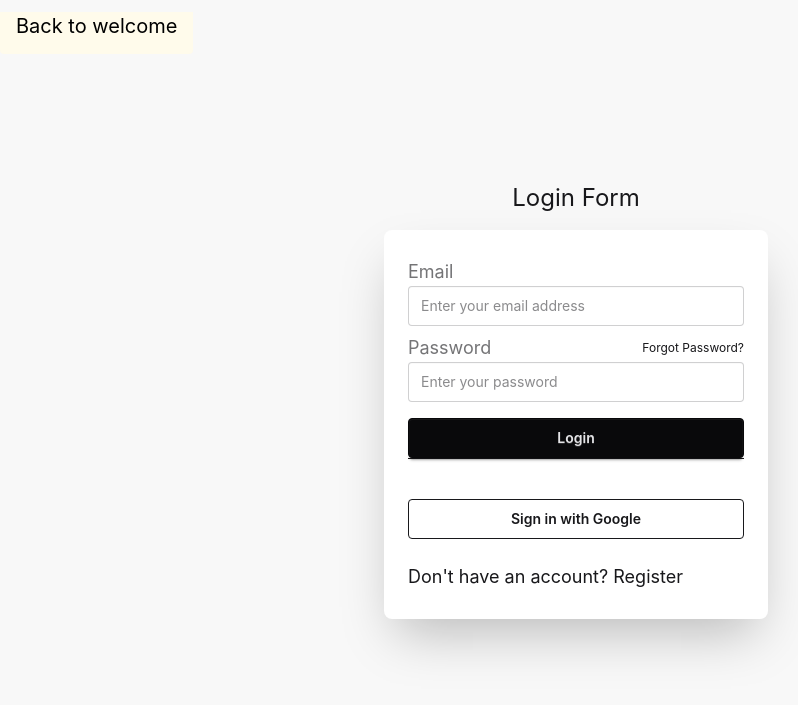
LoginPage › displays a Google sign-in error without navigating
Click the button "Sign in with Google": [576, 518] box [408,498,744,538]
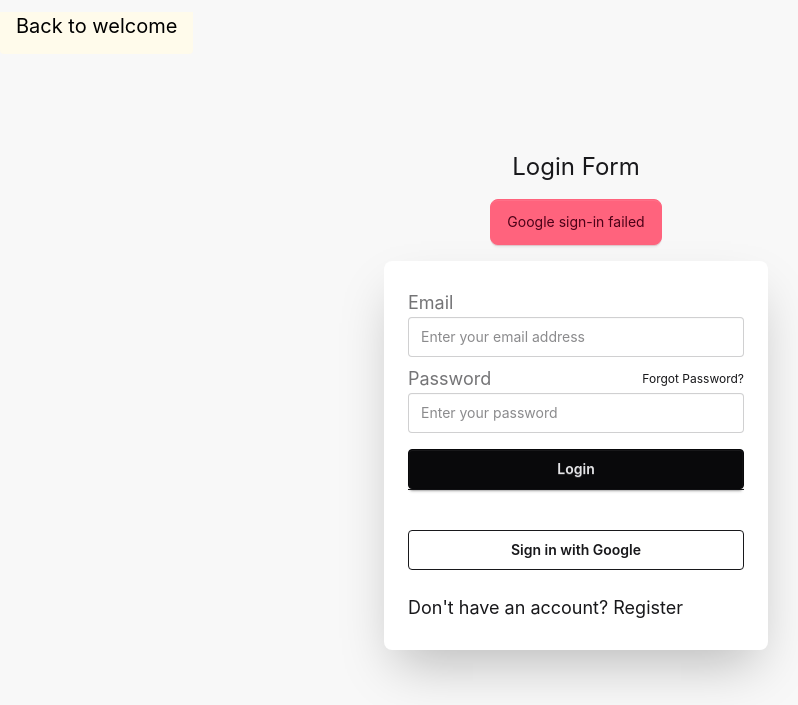
Now the text "Google sign-in failed" is shown, box [490,198,662,244]
